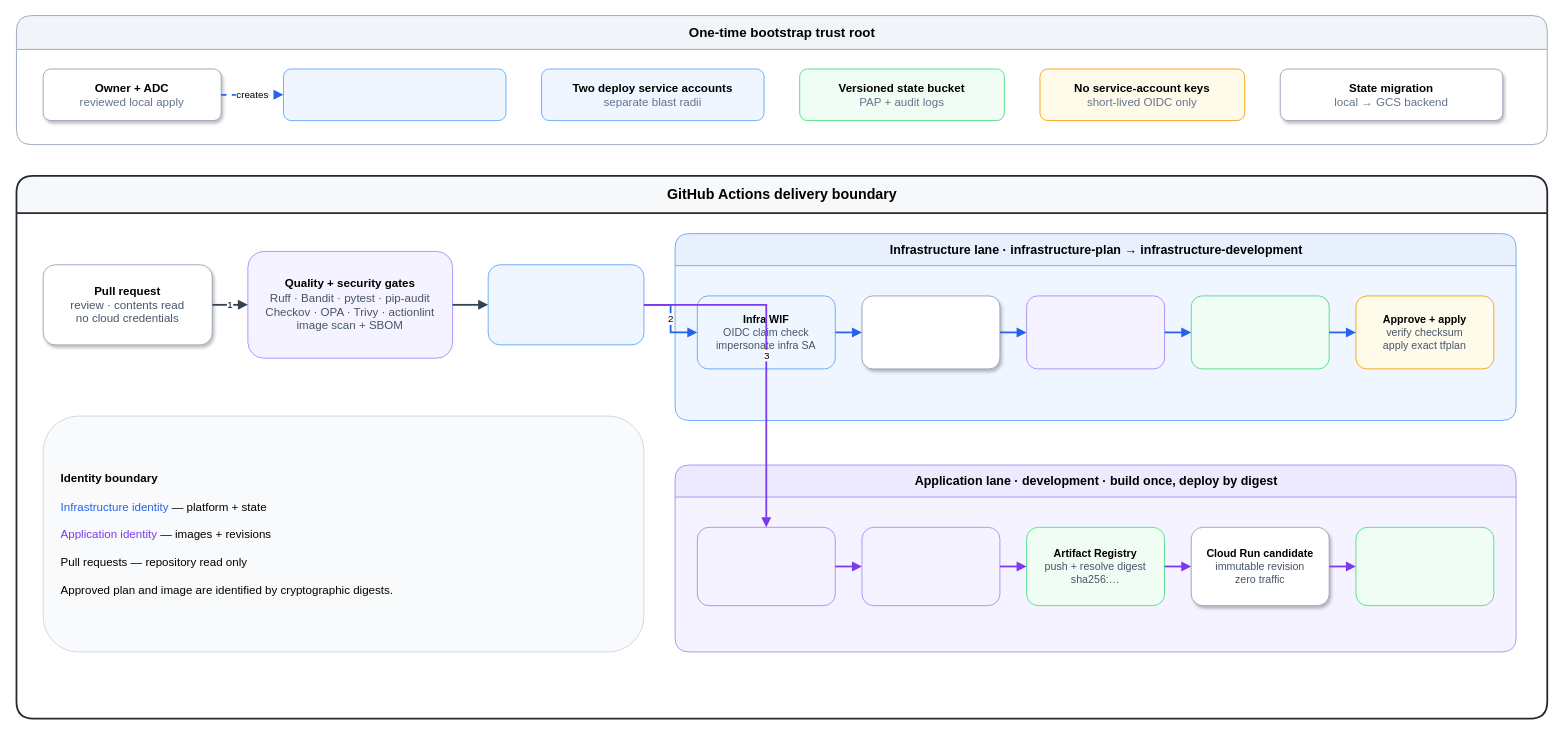
This 1563x735 diagram has some shape labels left out. Here are the shapes that lost their labels. From the top down, the centre of each, then its label:
At [394,94]: "Two WIF pools + providers immutable repo and workflow claims".
At [565,304]: "Protected main trusted commit SHA path-select delivery".
At [931,333]: "Terraform plan binary tfplan remote state lock".
At [1095,332]: "OPA + SHA-256 real plan JSON fail closed".
At [1259,332]: "Protected GCS plan + checksum one-day lifecycle".
At [765,566]: "Build once Trivy image gate CycloneDX SBOM".
At [930,566]: "App WIF OIDC claim check impersonate app SA".
At [1424,566]: "Verify + promote /health/ready candidate → 100%".
